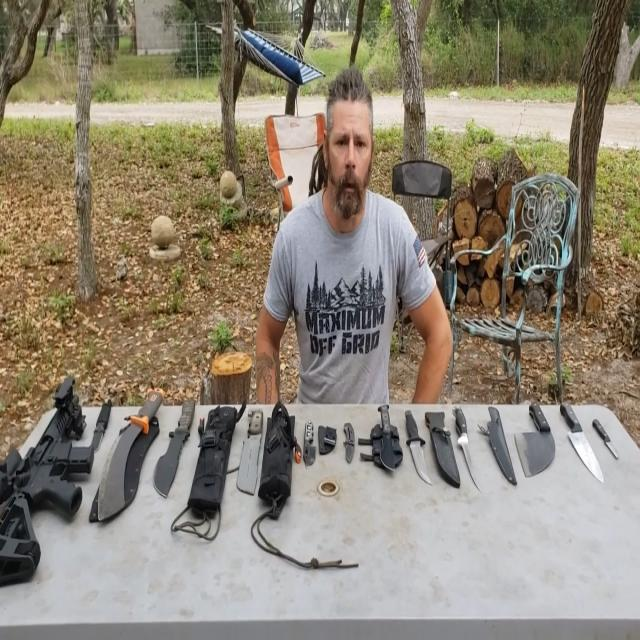knife: (89, 382, 167, 518), (160, 366, 210, 484), (232, 402, 274, 499), (565, 402, 607, 494), (517, 390, 557, 482), (402, 405, 436, 497), (372, 400, 403, 491), (450, 408, 481, 490), (88, 387, 118, 463), (588, 411, 624, 459), (302, 408, 320, 488), (342, 414, 360, 476)
long weapon: (0, 369, 97, 640)
